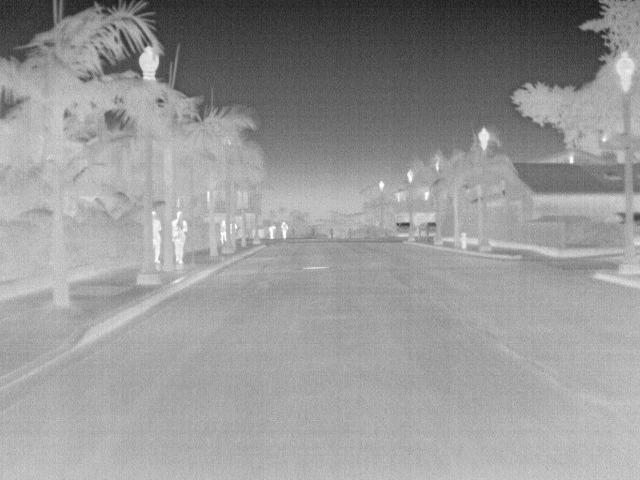car: (394, 220, 412, 236), (417, 222, 437, 236)
person: (173, 212, 190, 266), (149, 208, 165, 265), (215, 218, 230, 244), (277, 220, 291, 239), (265, 224, 278, 240)
